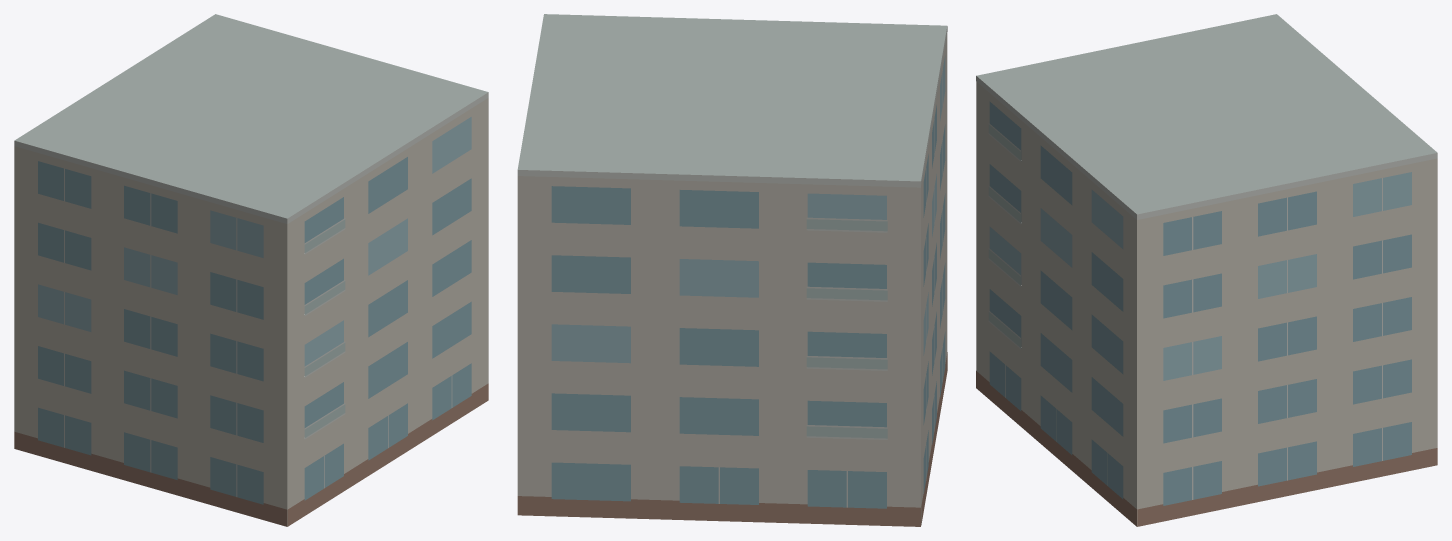
The model's file is survey-upis-32728505.glb.
3 views of the same model, side by side, from view 1: azimuth 30°, elevation 25°; view 2: azimuth 150°, elevation 25°; view 3: azimuth 270°, elevation 25° (orthographic). The views are drawn at different scales.
Parts seen in each view (by area): view 1: survey-upis-32728505.tmp; view 2: survey-upis-32728505.tmp; view 3: survey-upis-32728505.tmp.
Boxes of the visible parts, x1=… form: survey-upis-32728505.tmp: x1=14, y1=14, x2=488, y2=526; survey-upis-32728505.tmp: x1=517, y1=14, x2=947, y2=526; survey-upis-32728505.tmp: x1=976, y1=14, x2=1437, y2=526.
Bounding box in the file's own units: 18.8 × 13.65 × 18.28.
